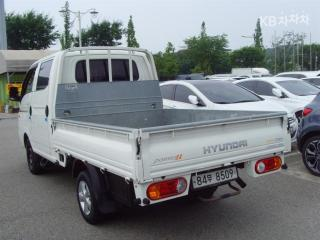0: (224, 169, 230, 179)
4: (202, 175, 208, 185)
5: (220, 170, 226, 180)
8: (196, 175, 203, 187), (215, 171, 221, 181)
9: (229, 167, 234, 178)
무: (207, 174, 214, 183)
